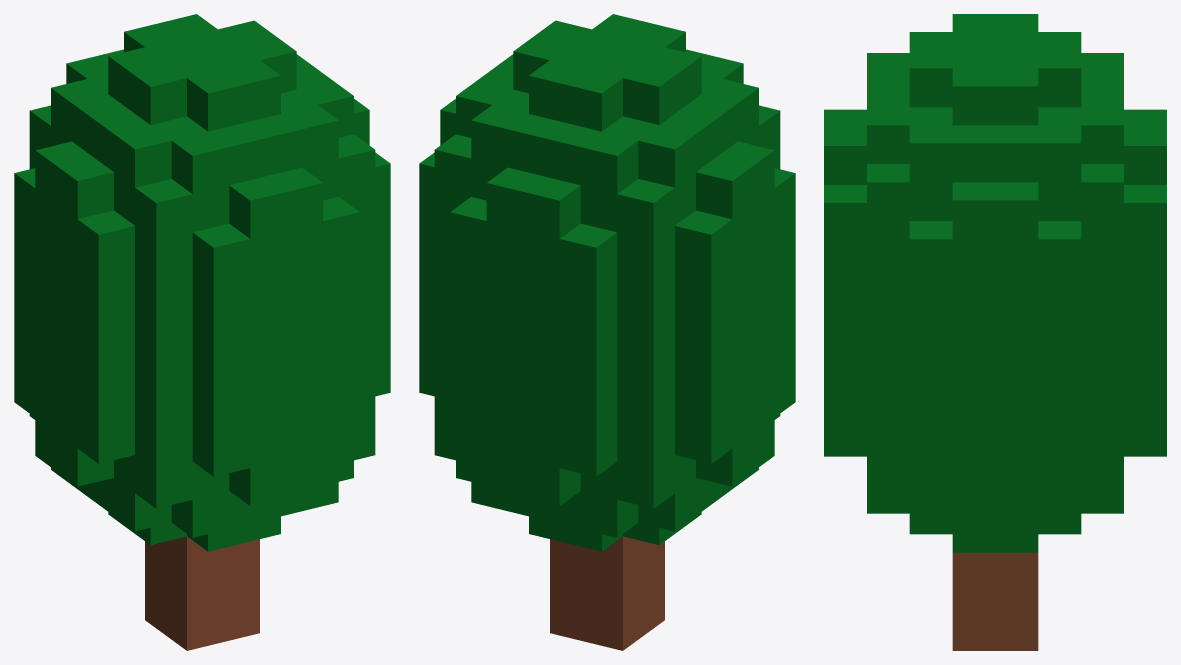
The model's file is tree-5.gltf.
3 renders of one model, left to right at view 1: azimuth 30°, elevation 25°; view 2: azimuth 150°, elevation 25°; view 3: azimuth 270°, elevation 25°, orthographic.
Visible parts, largest first — view 1: tree-5; view 2: tree-5; view 3: tree-5.
Part boxes in pixels (box(x1,y1,x2,y2)): tree-5: box(14, 14, 390, 650); tree-5: box(419, 14, 795, 650); tree-5: box(824, 14, 1166, 650).
Size of the model in its own units: 0.8 by 1.5 by 0.8.
Materials: 1 (1 with a texture image).
